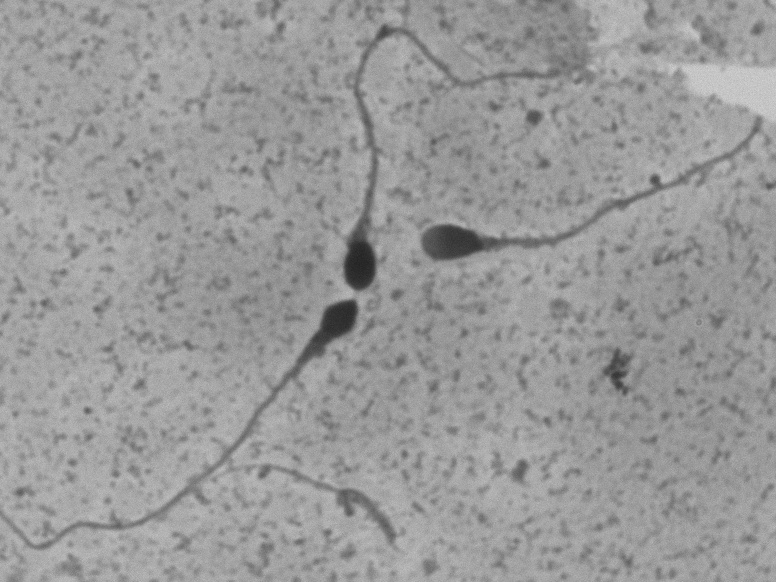Abnormal: (13, 288, 375, 558), (316, 15, 557, 296), (406, 140, 767, 275)
